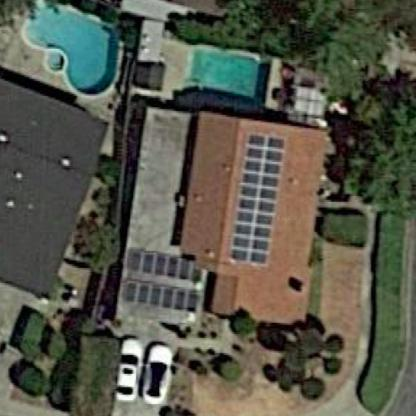car: (137, 343, 183, 407), (110, 332, 140, 406)
solar_panel: (223, 127, 286, 277), (120, 239, 211, 322)
swimming_pool: (11, 2, 135, 98), (171, 31, 287, 120)
